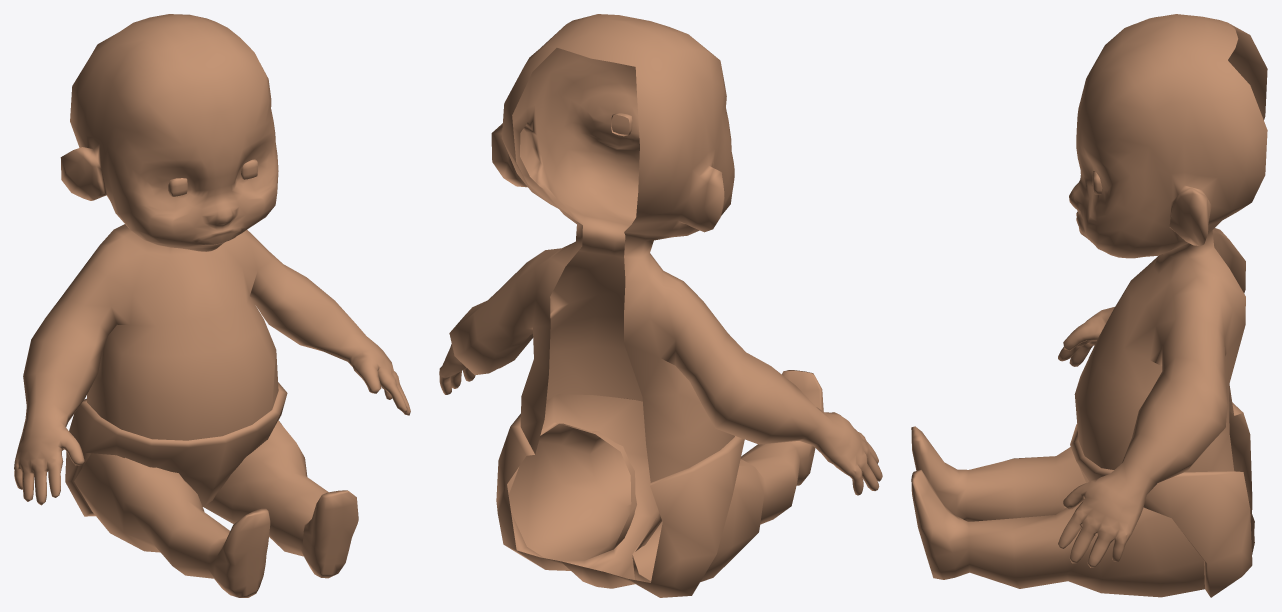
The model's file is Baby_Final_02 (1).fbx.
The picture shows the model from 3 angles, left to right: view 1: azimuth 30°, elevation 25°; view 2: azimuth 150°, elevation 25°; view 3: azimuth 270°, elevation 25°; orthographic projection. The views are drawn at different scales.
Visible parts, largest first — view 1: Head_Import001; view 2: Head_Import001; view 3: Head_Import001.
Part boxes in pixels (left/top/right/bottom): Head_Import001: left=14, top=14, right=410, bottom=597; Head_Import001: left=439, top=14, right=882, bottom=597; Head_Import001: left=911, top=14, right=1267, bottom=597.
Size of the model in its own units: 41.76 by 51.13 by 30.64.
